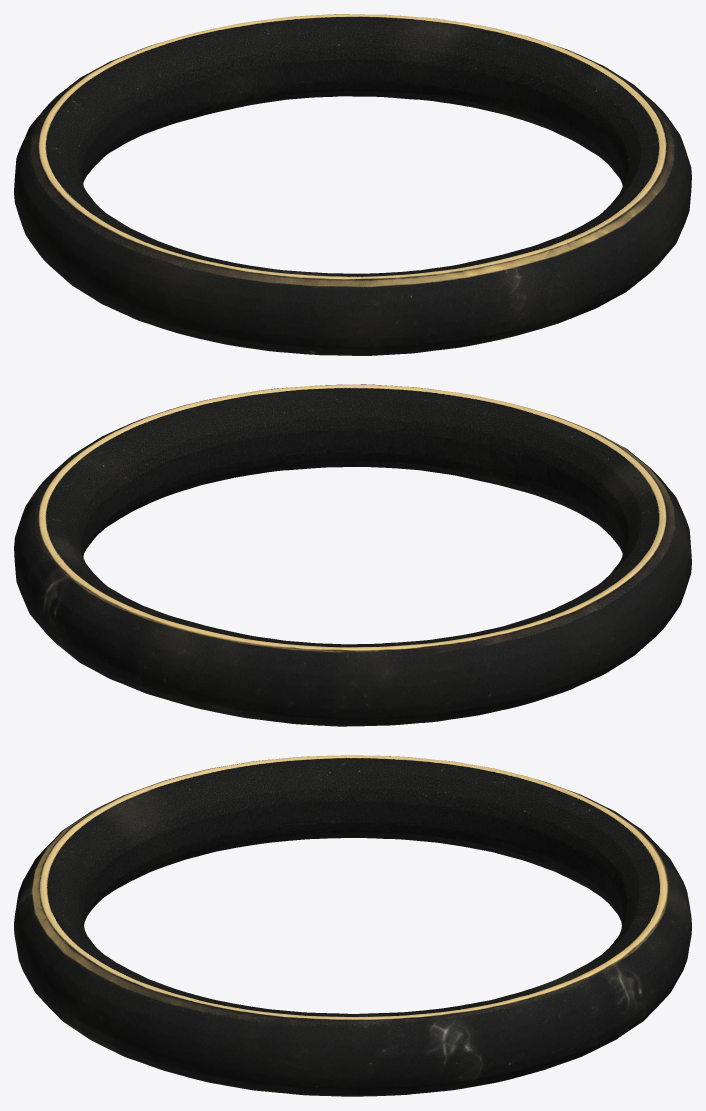
Rendered from ring_onyx.glb.
3 renders of one model, top to bottom at view 1: azimuth 30°, elevation 25°; view 2: azimuth 150°, elevation 25°; view 3: azimuth 270°, elevation 25°, orthographic.
Size of the model in its own units: 1.89 by 0.24 by 1.89.
1 material, 1 textured.
